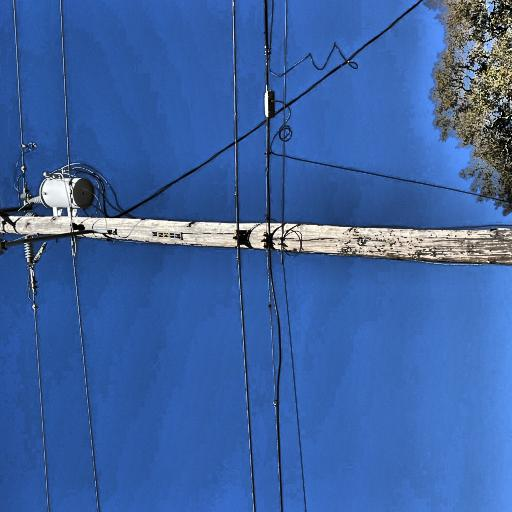pole: (104, 56, 170, 512)
street light: (123, 81, 156, 245)
transformer: (169, 157, 200, 220)
